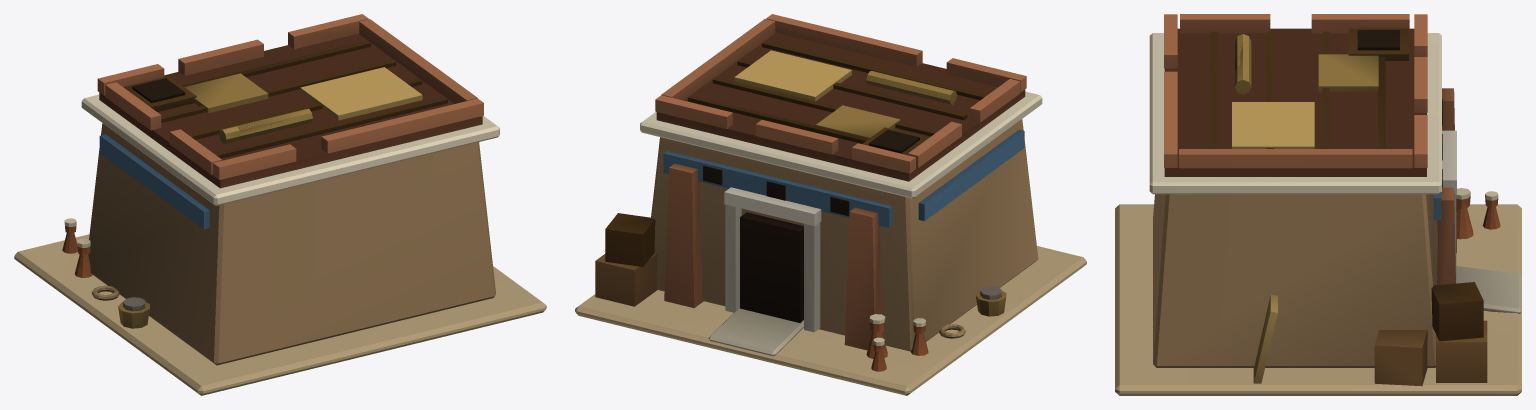
File: warehouse.glb
The picture shows the model from 3 angles, left to right: view 1: azimuth 30°, elevation 25°; view 2: azimuth 150°, elevation 25°; view 3: azimuth 270°, elevation 25°; orthographic projection. The views are drawn at different scales.
Visible parts, largest first — view 1: warehouse_mud_tan, warehouse_sand_spit, warehouse_mud_dark, warehouse_mud_terra, warehouse_stone_pale, warehouse_wood_dark, warehouse_thatch_dark, warehouse_thatch_mat, warehouse_nile_blue, warehouse_door_dark, warehouse_pottery; view 2: warehouse_mud_tan, warehouse_mud_terra, warehouse_sand_spit, warehouse_mud_dark, warehouse_stone_pale, warehouse_door_dark, warehouse_wood_dark, warehouse_nile_blue, warehouse_stone_white, warehouse_thatch_mat, warehouse_thatch_dark, warehouse_wood_mid (+1 smaller); view 3: warehouse_mud_tan, warehouse_sand_spit, warehouse_mud_dark, warehouse_mud_terra, warehouse_stone_pale, warehouse_wood_dark, warehouse_wood_mid, warehouse_thatch_mat, warehouse_thatch_dark, warehouse_stone_white, warehouse_pottery, warehouse_door_dark.
Boxes of the visible parts, box(x1,y1,x2,y2) form: warehouse_mud_tan: box(88, 123, 495, 365); warehouse_sand_spit: box(14, 234, 546, 395); warehouse_mud_dark: box(99, 33, 482, 188); warehouse_mud_terra: box(97, 14, 483, 179); warehouse_stone_pale: box(81, 94, 499, 205); warehouse_wood_dark: box(123, 40, 447, 158); warehouse_thatch_dark: box(118, 73, 312, 328); warehouse_thatch_mat: box(300, 67, 422, 120); warehouse_nile_blue: box(99, 134, 209, 229); warehouse_door_dark: box(132, 78, 185, 102); warehouse_pottery: box(62, 225, 92, 277); warehouse_mud_tan: box(651, 119, 1038, 351); warehouse_mud_terra: box(655, 14, 1026, 350); warehouse_sand_spit: box(575, 246, 1086, 395); warehouse_mud_dark: box(656, 33, 1025, 181); warehouse_stone_pale: box(640, 91, 1042, 356); warehouse_door_dark: box(703, 129, 919, 322); warehouse_wood_dark: box(605, 41, 986, 266); warehouse_nile_blue: box(663, 129, 1024, 227); warehouse_stone_white: box(724, 187, 821, 332); warehouse_thatch_mat: box(734, 50, 851, 101); warehouse_thatch_dark: box(816, 71, 1006, 316); warehouse_wood_mid: box(595, 253, 657, 306); warehouse_mud_tan: box(1153, 194, 1437, 367); warehouse_sand_spit: box(1115, 204, 1521, 395); warehouse_mud_dark: box(1164, 28, 1426, 176); warehouse_mud_terra: box(1164, 14, 1456, 284); warehouse_stone_pale: box(1149, 33, 1521, 313); warehouse_wood_dark: box(1210, 28, 1483, 341); warehouse_wood_mid: box(1374, 320, 1487, 386); warehouse_thatch_mat: box(1232, 102, 1314, 383); warehouse_thatch_dark: box(1235, 34, 1378, 94); warehouse_stone_white: box(1442, 130, 1456, 283); warehouse_pottery: box(1456, 196, 1500, 239); warehouse_door_dark: box(1357, 30, 1442, 187).
Bounding box in the file's own units: 2.9 × 1.63 × 2.7.
